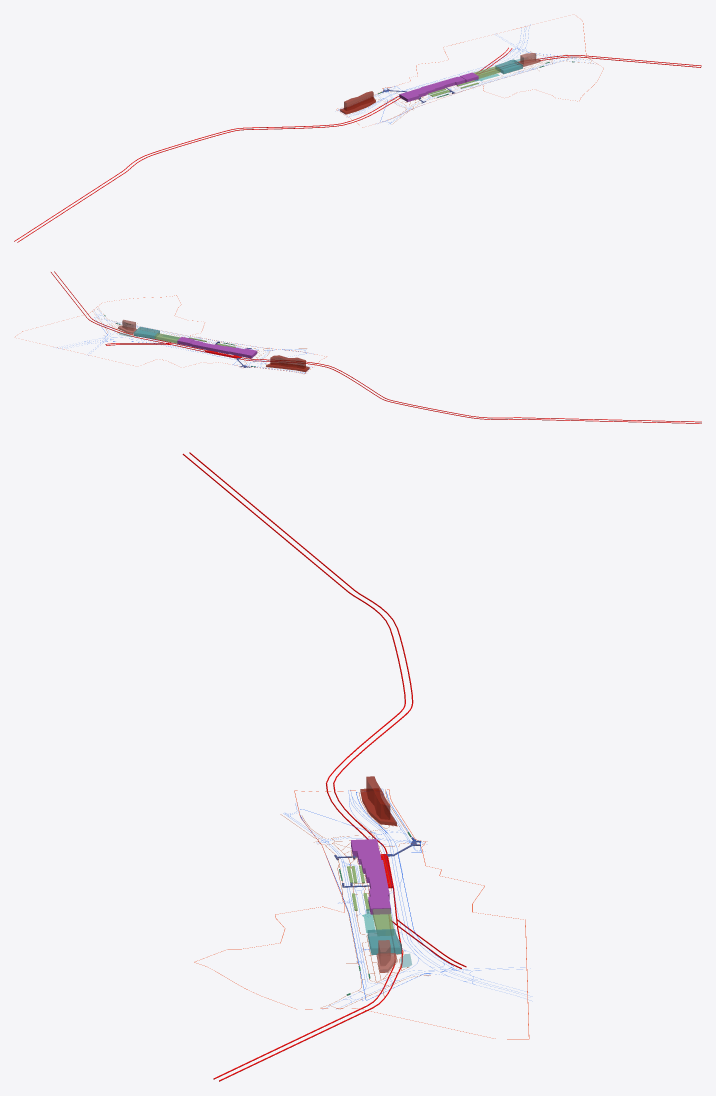
File: MODEL_LAYERS.fbx
3 renders of one model, top to bottom at view 1: azimuth 30°, elevation 25°; view 2: azimuth 150°, elevation 25°; view 3: azimuth 270°, elevation 25°, orthographic. The views are drawn at different scales.
Visible parts, largest first — view 1: L_LH_Metro_line, L_LH_TRC, L_LH_OfficeDelCentr; view 2: L_LH_Metro_line, L_LH_TRC, L_LH_OfficeDelCentr; view 3: L_LH_Metro_line, L_LH_TRC, L_LH_Traffic_Car, L_Traffic_Pedestrian, L_LH_OfficeDelCentr.
Boxes of the visible parts, x1=… form: L_LH_Metro_line: x1=14, y1=47, x2=701, y2=242; L_LH_TRC: x1=399, y1=72, x2=478, y2=101; L_LH_OfficeDelCentr: x1=340, y1=91, x2=375, y2=114; L_LH_Metro_line: x1=51, y1=271, x2=701, y2=423; L_LH_TRC: x1=177, y1=337, x2=257, y2=358; L_LH_OfficeDelCentr: x1=266, y1=355, x2=309, y2=372; L_LH_Metro_line: x1=182, y1=452, x2=466, y2=1081; L_LH_TRC: x1=351, y1=839, x2=390, y2=914; L_LH_Traffic_Car: x1=283, y1=789, x2=524, y2=1009; L_Traffic_Pedestrian: x1=280, y1=789, x2=430, y2=1009; L_LH_OfficeDelCentr: x1=360, y1=776, x2=396, y2=825.
Size of the model in its own units: 5717 by 93.6 by 1348.
